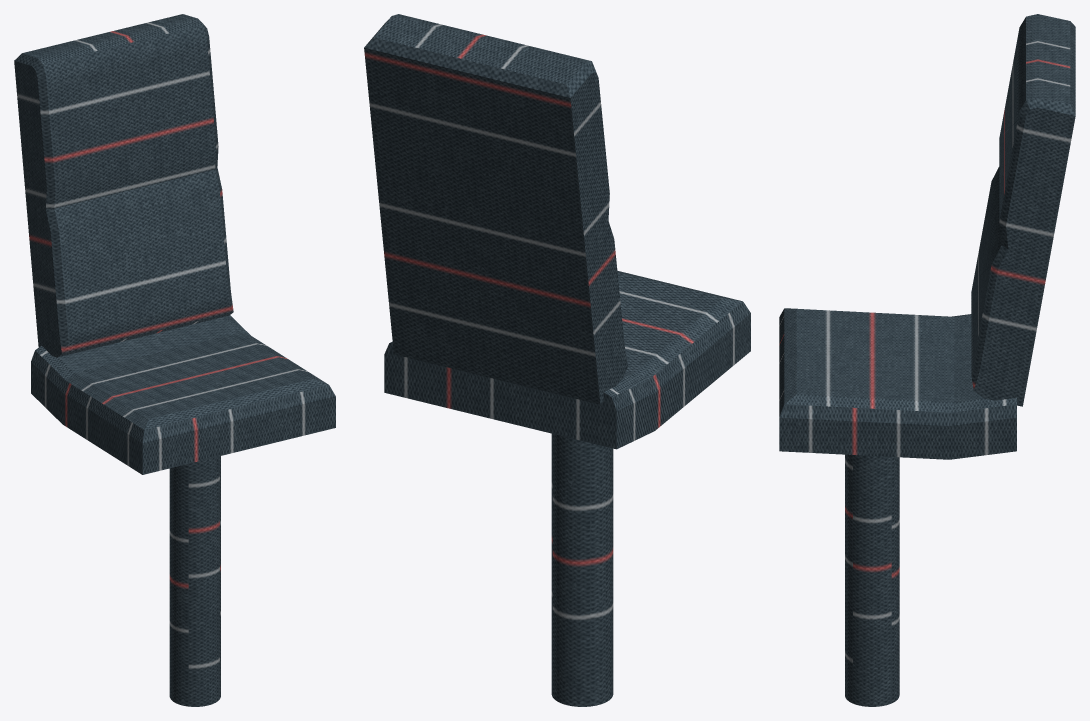
Rendered from SM_Chair.fbx.
3 views of the same model, side by side, from view 1: azimuth 30°, elevation 25°; view 2: azimuth 150°, elevation 25°; view 3: azimuth 270°, elevation 25° (orthographic). The views are drawn at different scales.
Visible parts, largest first — view 1: Chair; view 2: Chair; view 3: Chair.
Part boxes in pixels (x1,y1,x2,y2): Chair: (14, 14, 335, 706); Chair: (364, 14, 750, 706); Chair: (779, 14, 1075, 706).
Bounding box in the file's own units: 0.6244 × 1.85 × 0.7788.
